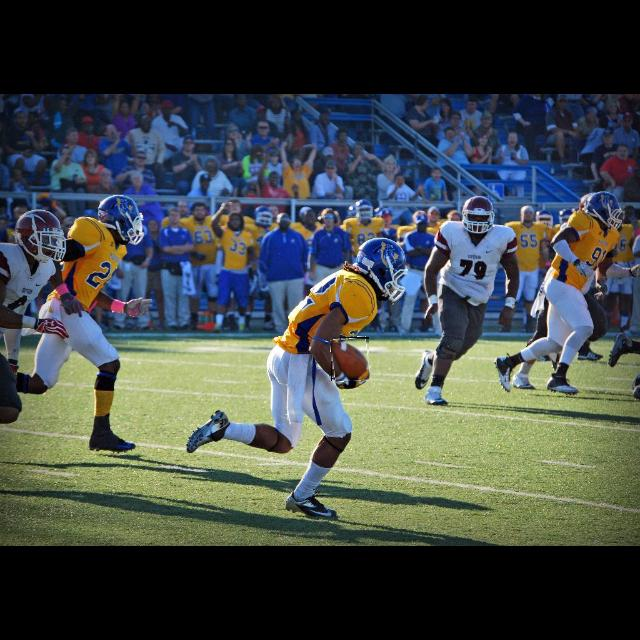Football: (331, 337, 369, 381)
